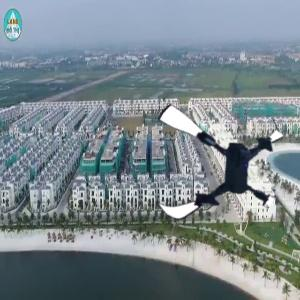drone: (143, 92, 286, 235)
